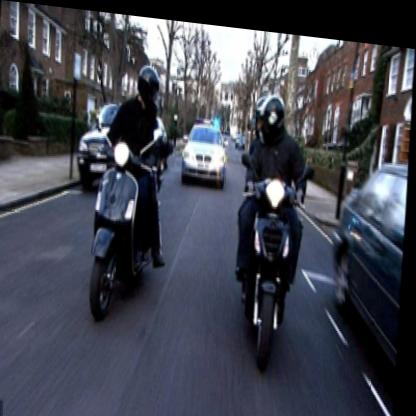With Helmet: (255, 76, 290, 140), (135, 50, 163, 107)
